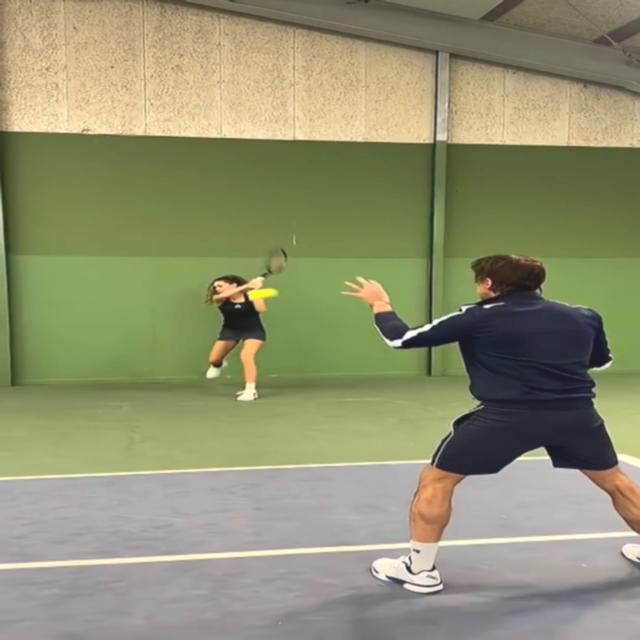tennis_ball: (250, 289, 272, 298)
